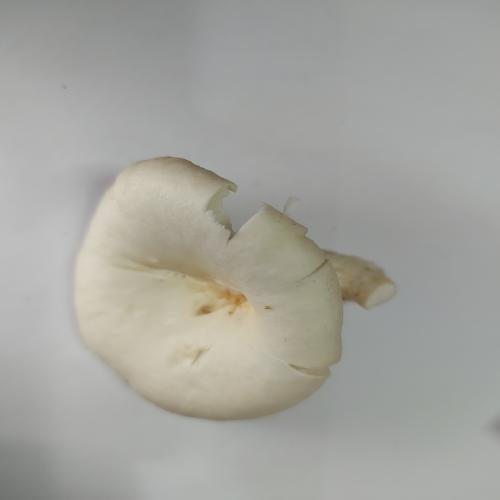Oyster Mushroom: (64, 157, 343, 416)
